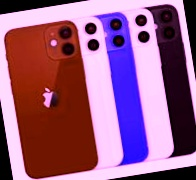iphone: (109, 16, 184, 169)
